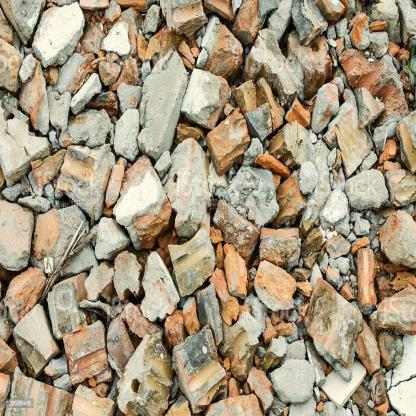brick: (0, 1, 414, 415)
